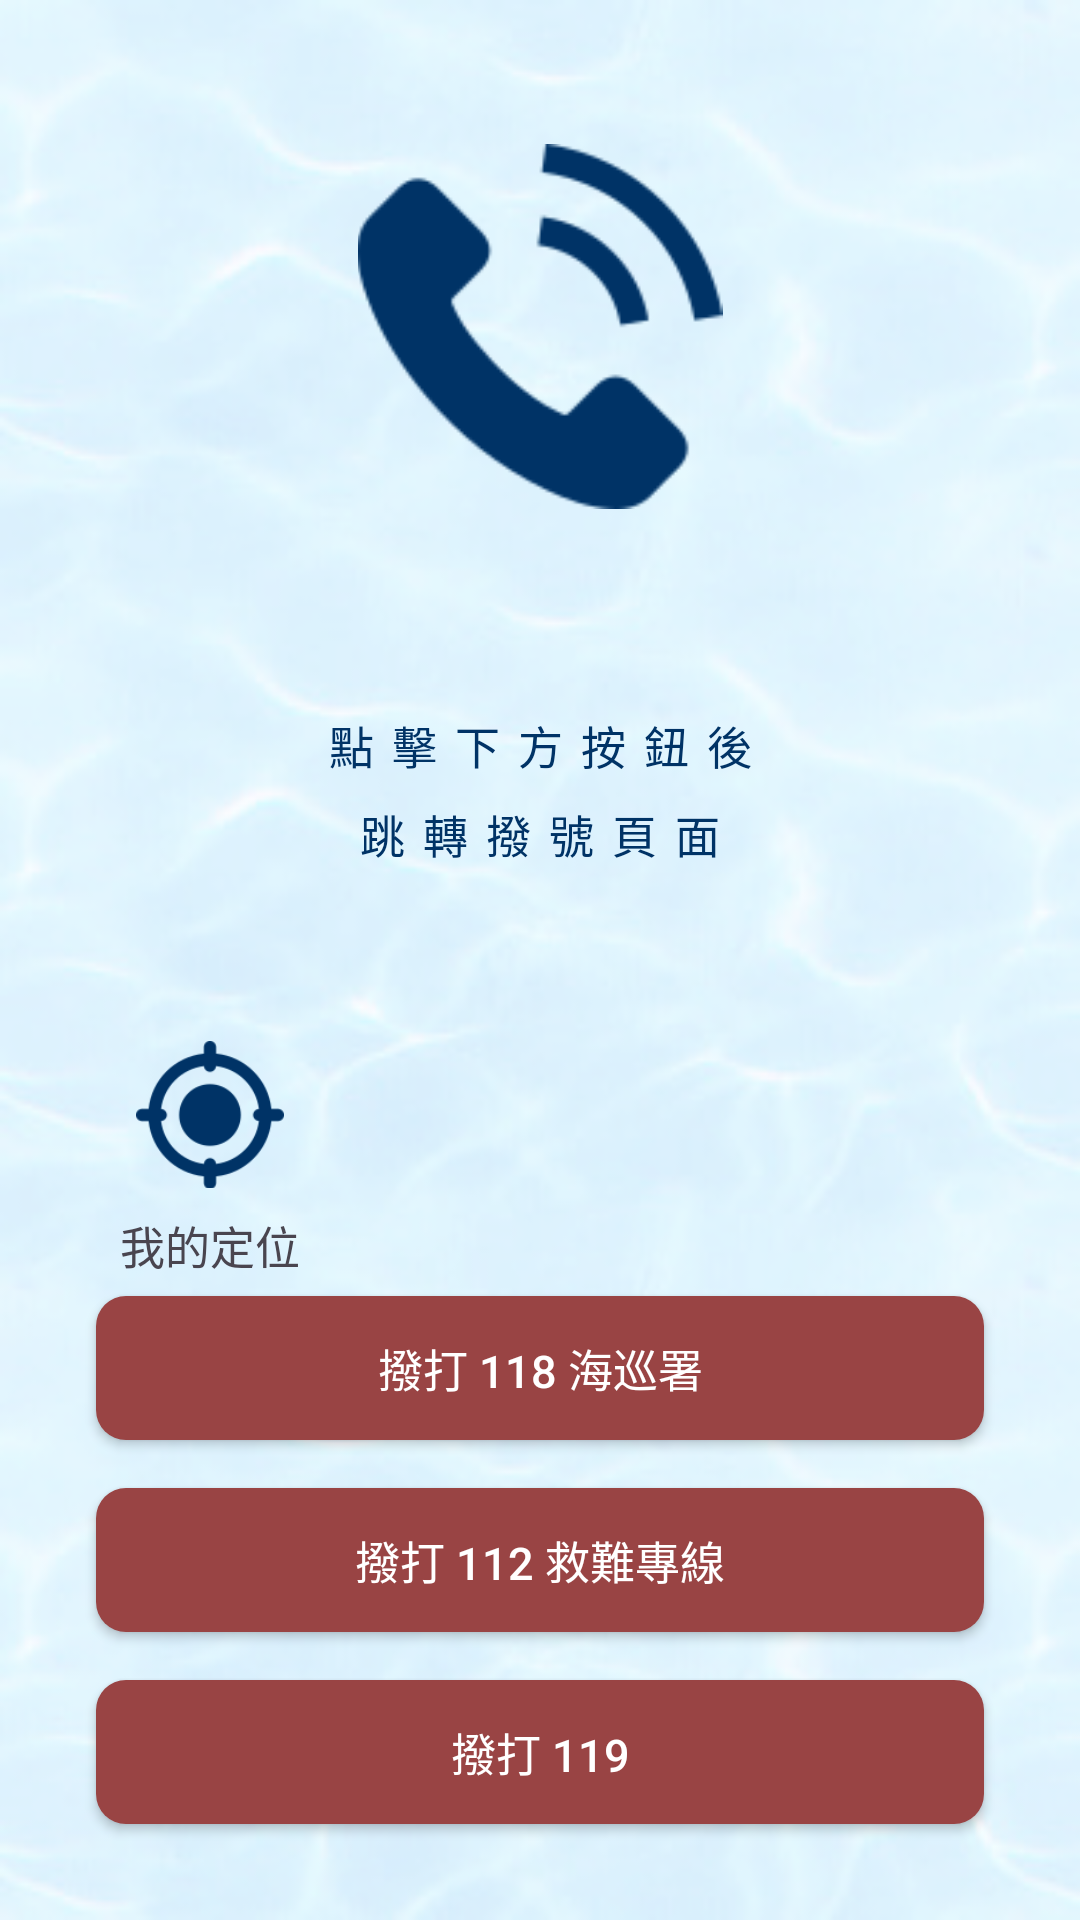

Named icons in this screenshot (1080px x 1920px) and their bounding boxes, (x1, y1, x2, y2):
crosshair: (136, 1041, 284, 1188)
